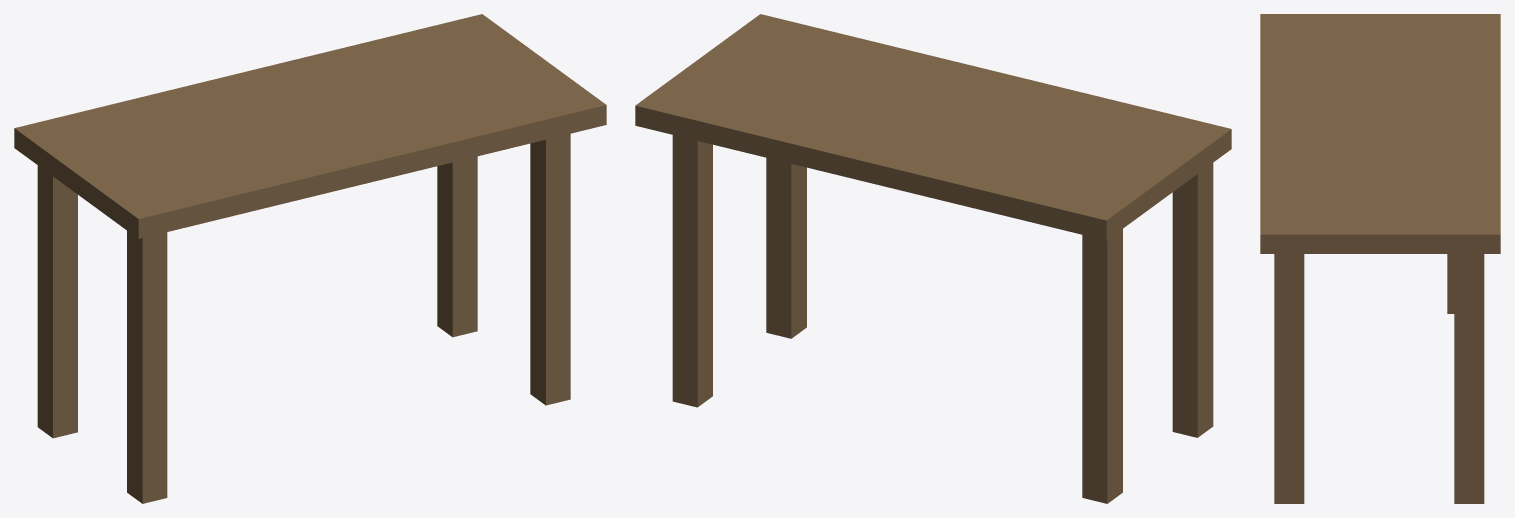
Rendered from table.fbx.
The picture shows the model from 3 angles, left to right: view 1: azimuth 30°, elevation 25°; view 2: azimuth 150°, elevation 25°; view 3: azimuth 270°, elevation 25°; orthographic projection. The views are drawn at different scales.
Parts seen in each view (by area): view 1: Plane.006; view 2: Plane.006; view 3: Plane.006.
Boxes of the visible parts, <box> form: Plane.006: <box>14,14,606,503</box>; Plane.006: <box>635,14,1231,503</box>; Plane.006: <box>1260,14,1500,503</box>.
Size of the model in its own units: 200 by 260 by 435.
